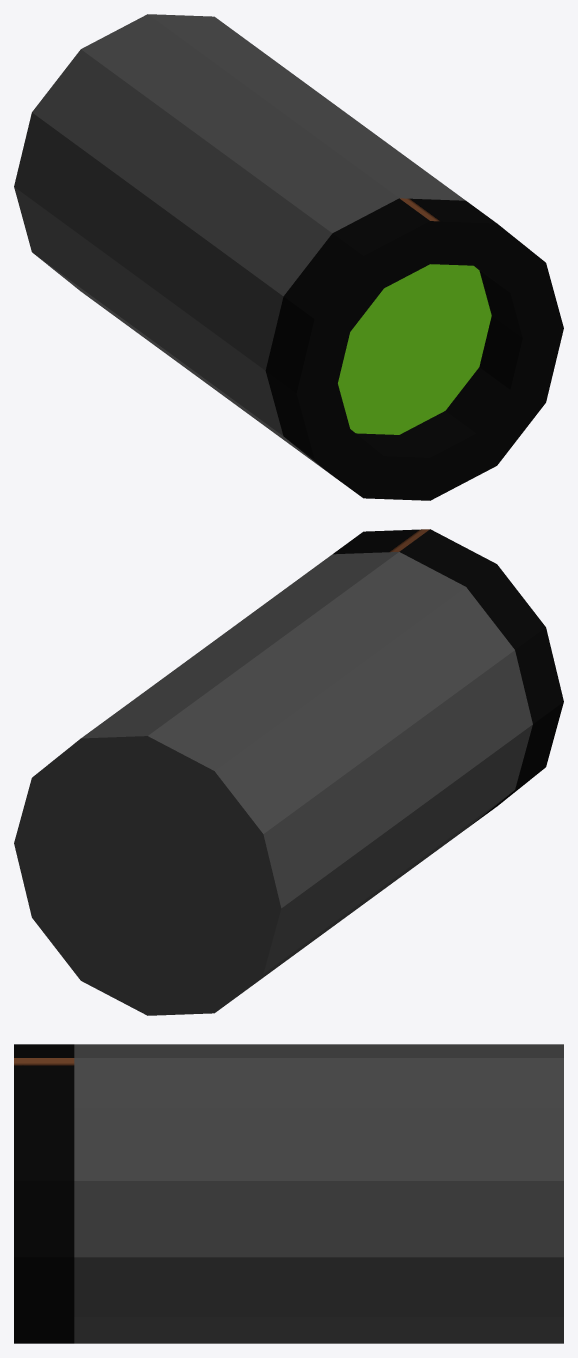
Rendered from Left_Eye.fbx.
The picture shows the model from 3 angles, top to bottom: view 1: azimuth 30°, elevation 25°; view 2: azimuth 150°, elevation 25°; view 3: azimuth 270°, elevation 25°; orthographic projection. The views are drawn at different scales.
Parts seen in each view (by area): view 1: Left_Eye; view 2: Left_Eye; view 3: Left_Eye.
Part boxes in pixels (x1,y1,x2,y2): Left_Eye: [14, 14, 563, 500]; Left_Eye: [14, 529, 563, 1015]; Left_Eye: [14, 1044, 563, 1343].
Size of the model in its own units: 10.72 by 10.72 by 19.62.
Materials: 1 (1 with a texture image).
